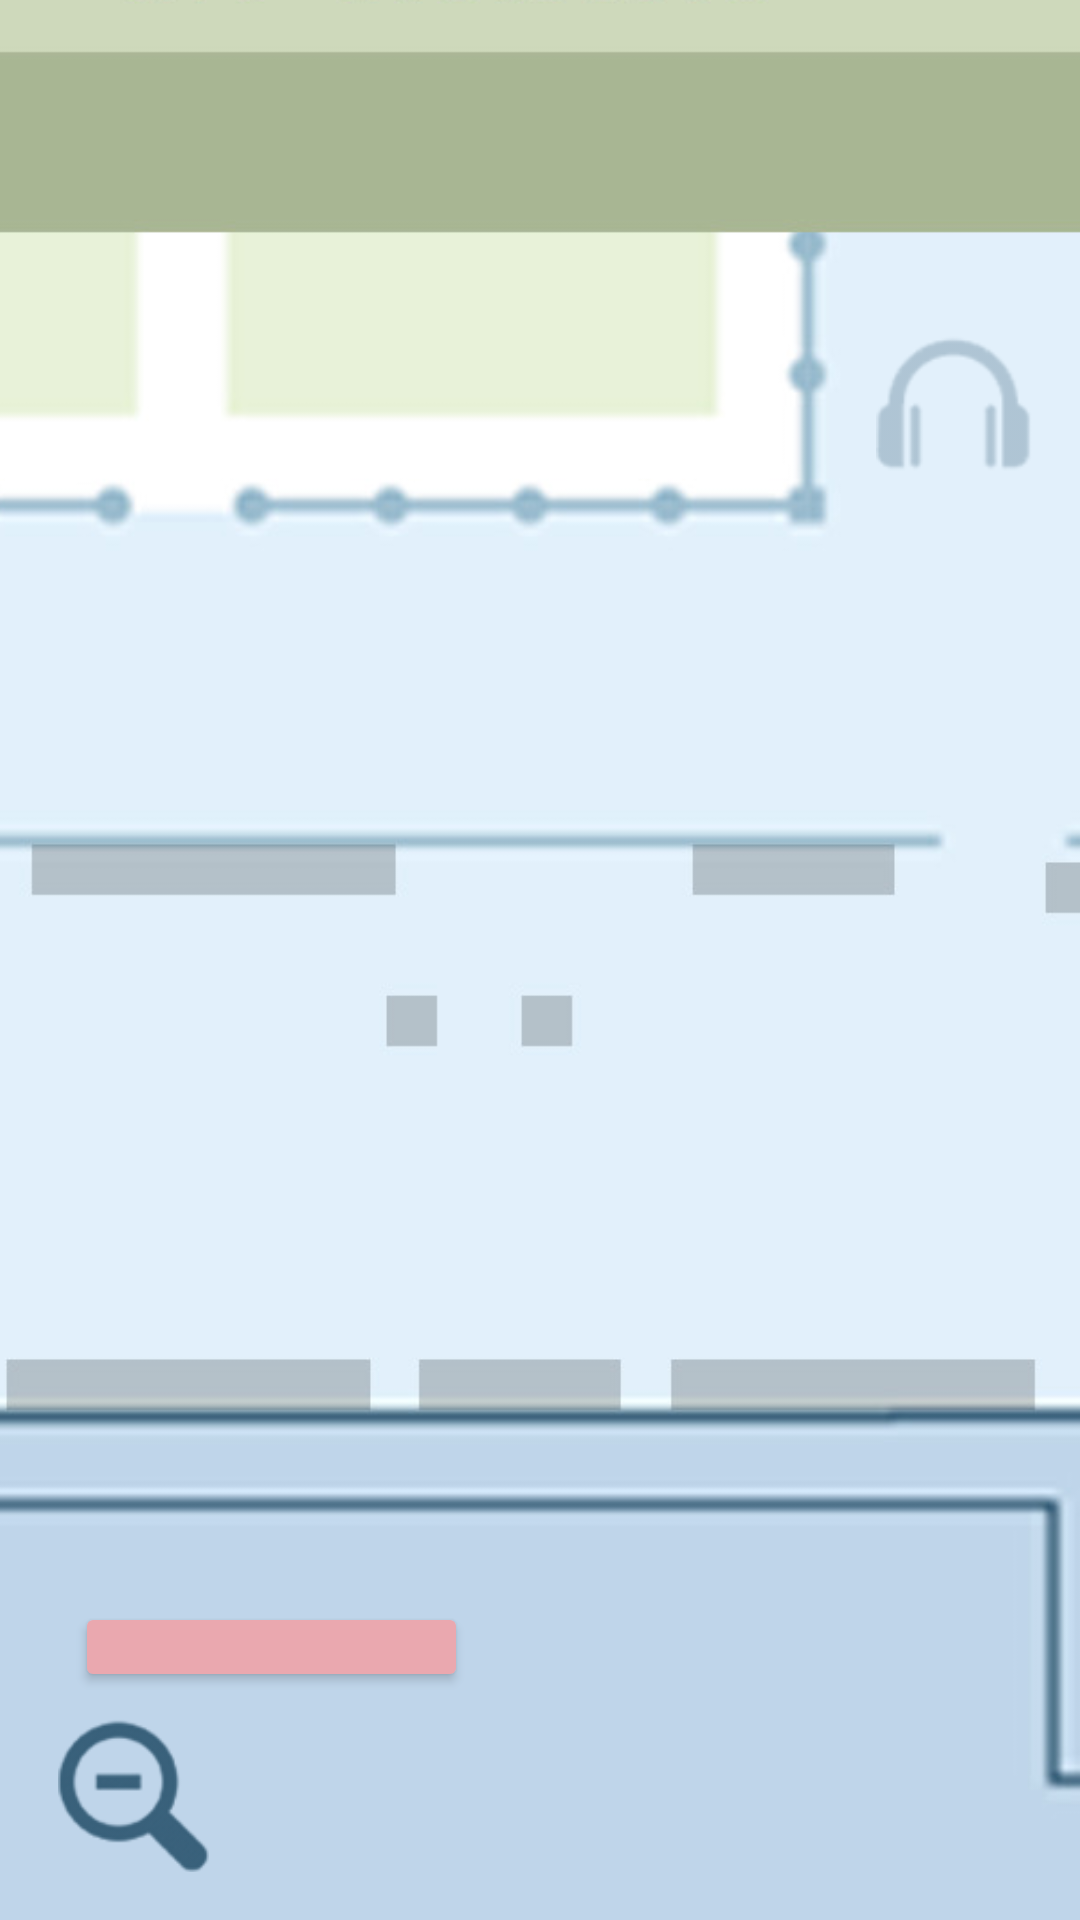

Named icons in this screenshot (1080px x 1920px) and their centers, (x=x, y=y):
Podcast Inactive: (x=953, y=403)
Zoom Out: (x=133, y=1796)
